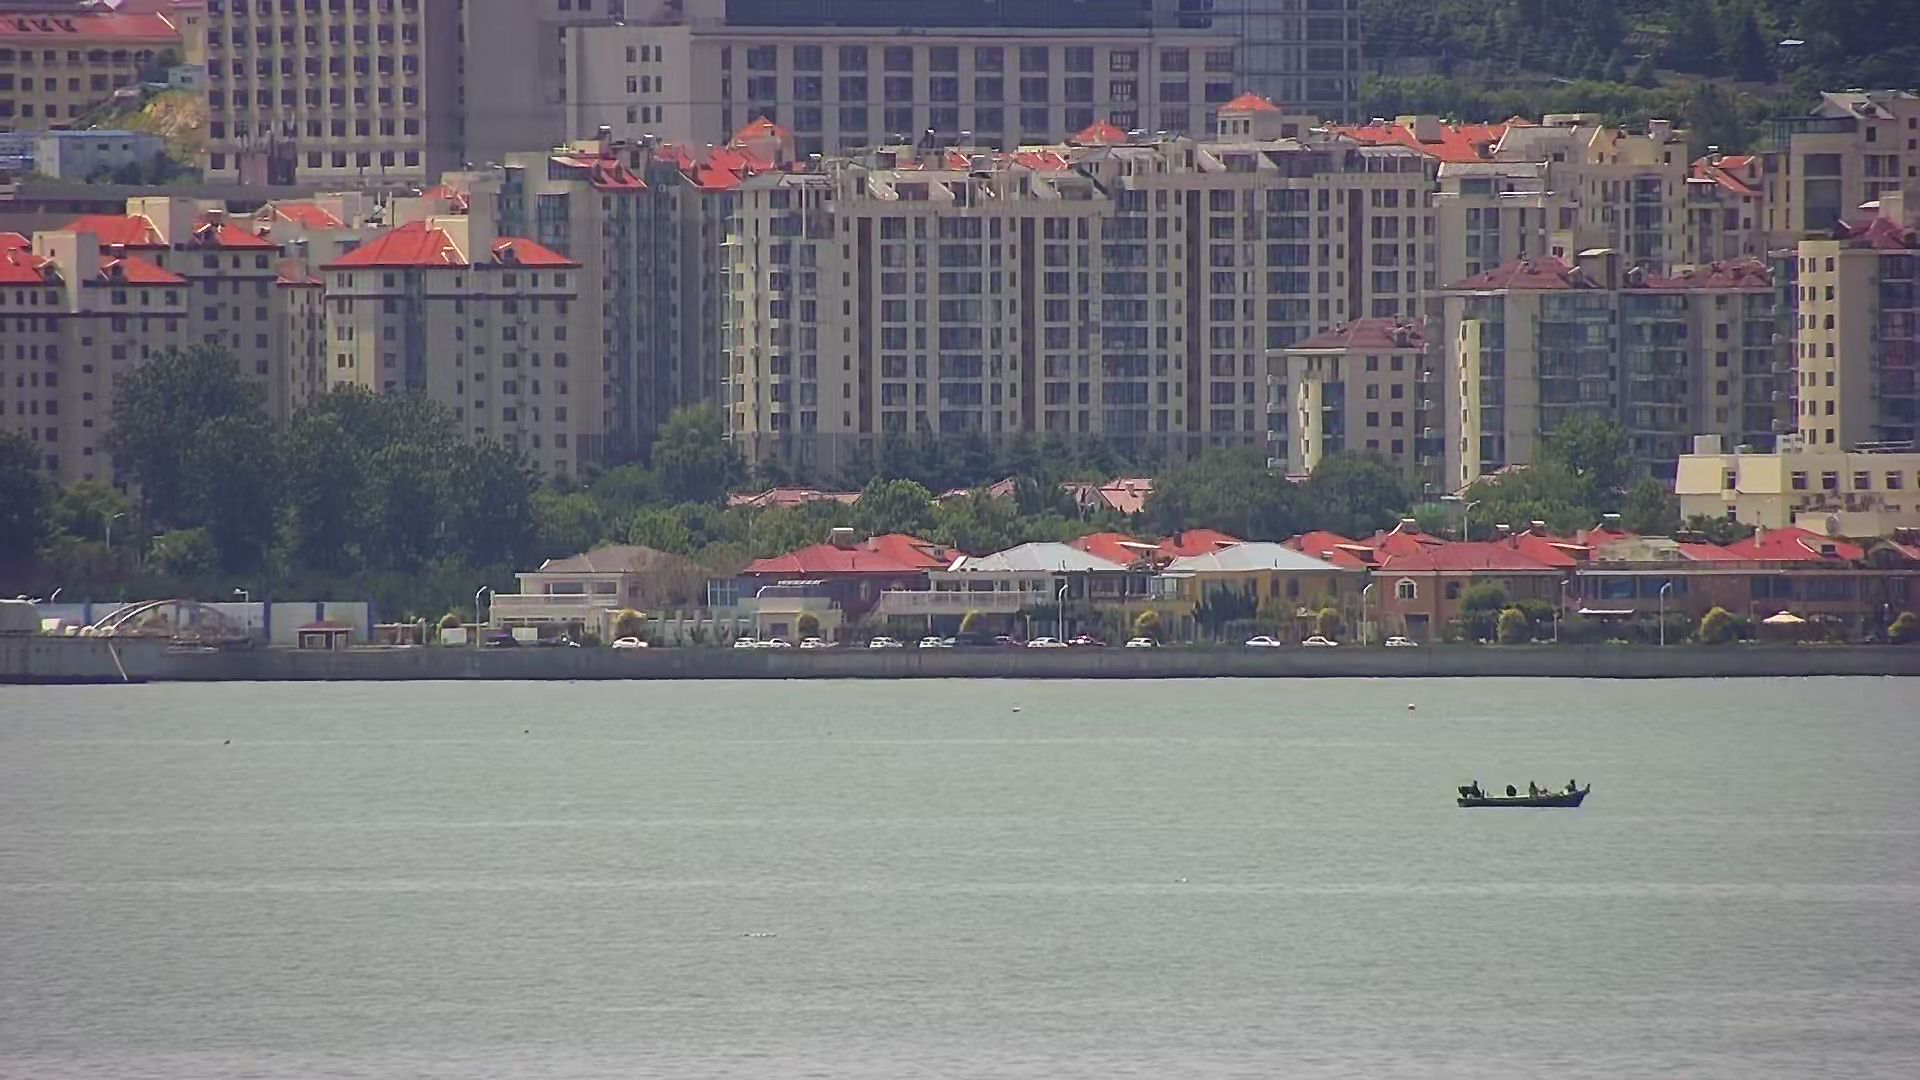boat: (1455, 769, 1596, 815)
